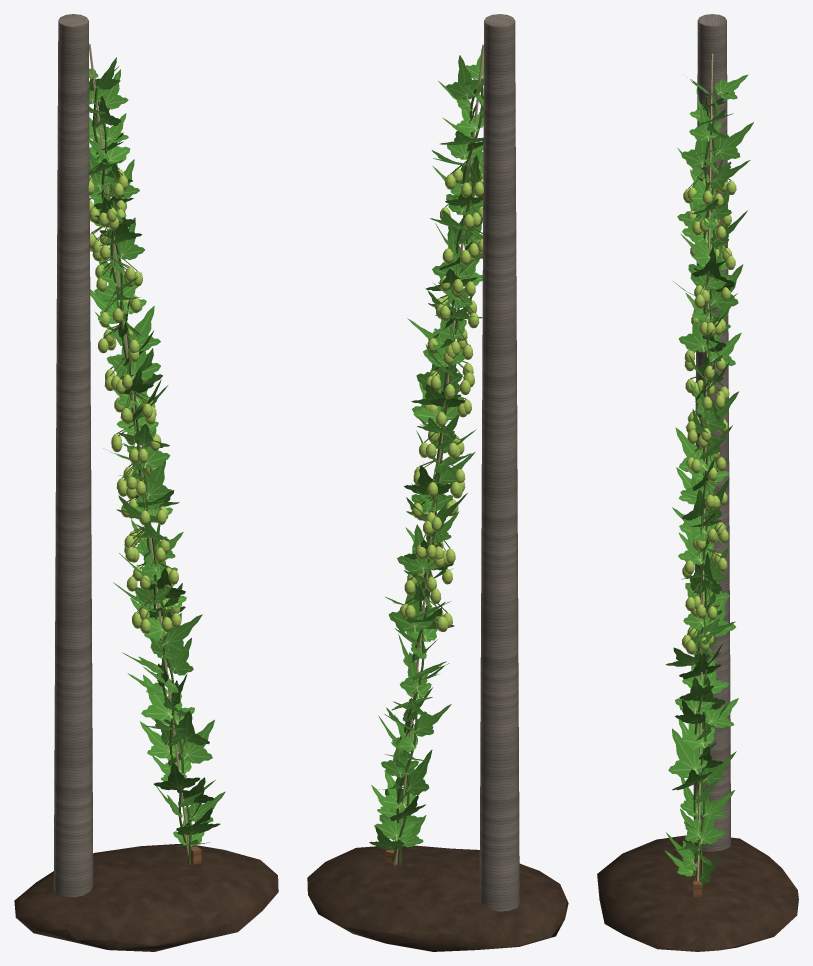
The model's file is hop-vine-pole.glb.
3 renders of one model, left to right at view 1: azimuth 30°, elevation 25°; view 2: azimuth 150°, elevation 25°; view 3: azimuth 270°, elevation 25°, orthographic. The views are drawn at different scales.
Visible parts, largest first — view 1: Hop_Vine_Pole; view 2: Hop_Vine_Pole; view 3: Hop_Vine_Pole.
Part boxes in pixels (box(x1,y1,x2,y2)): Hop_Vine_Pole: box(14, 14, 278, 951); Hop_Vine_Pole: box(307, 14, 568, 951); Hop_Vine_Pole: box(597, 14, 798, 951).
Bounding box in the file's own units: 0.9069 × 3.25 × 0.6934.
7 materials, 4 textured.
